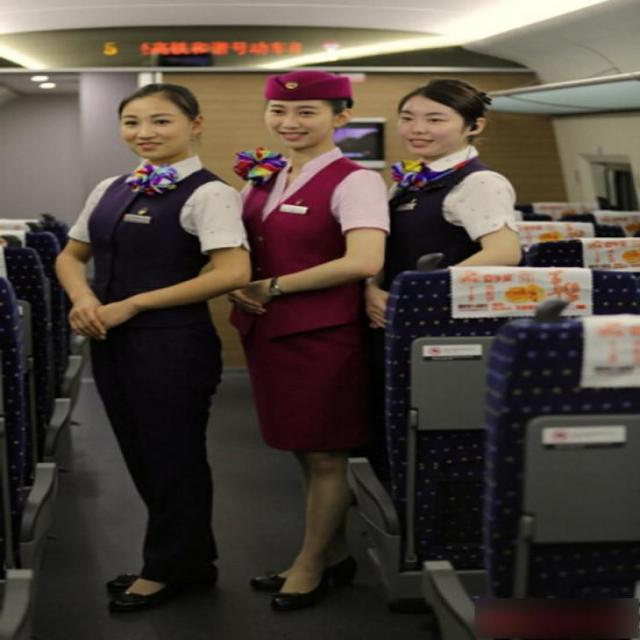Manusia: (54, 79, 258, 624), (225, 56, 396, 596), (364, 62, 532, 346)
